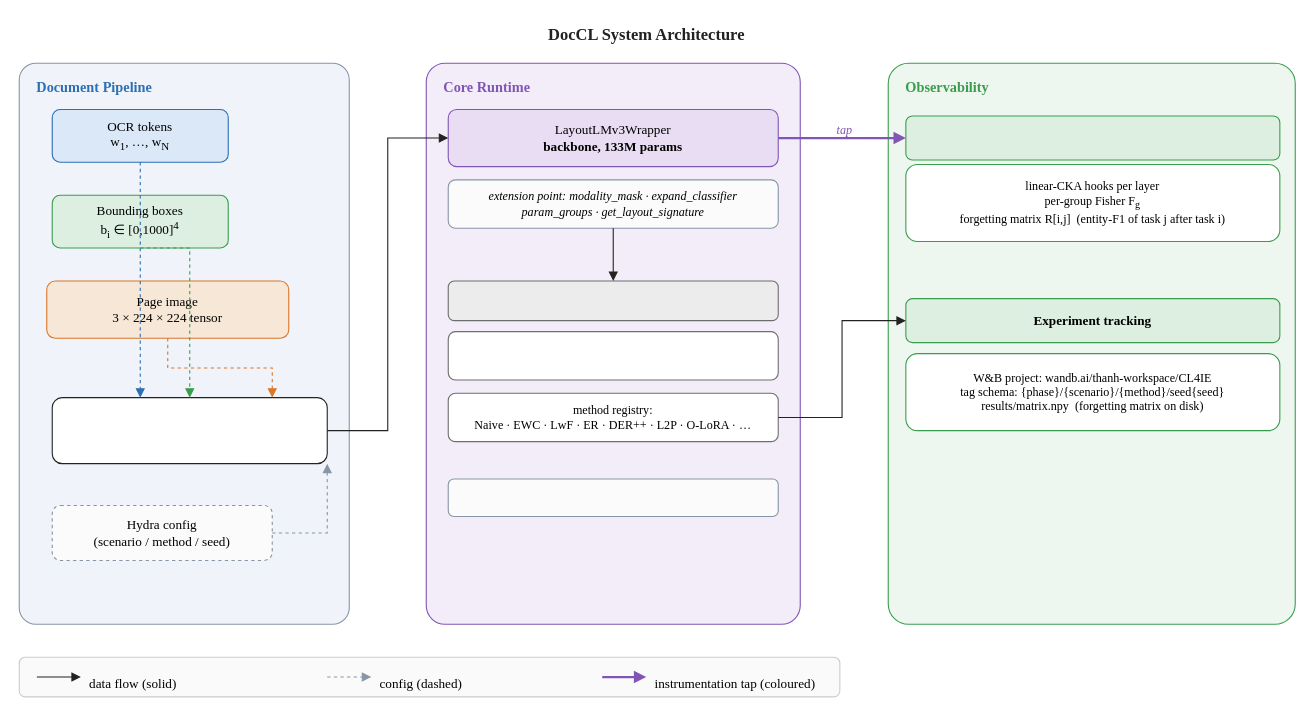
Image size: 1315x716. Some labels were removed from this diagram. The shapes that lost their labels are listed below. From the top down, each one's centre as x and y in pixels, then its label:
pixel 1092 137: Per-component instrumentation
pixel 612 300: ContinualMethod (ABC)
pixel 612 355: lifecycle hooks: before_task / train_task / after_task / evaluate
pixel 189 430: Preprocessing WordPiece tokenise · box align 16×16 patches
pixel 612 497: CL loop: for t ∈ tasks → before_task → train_task → after_task → evaluate
